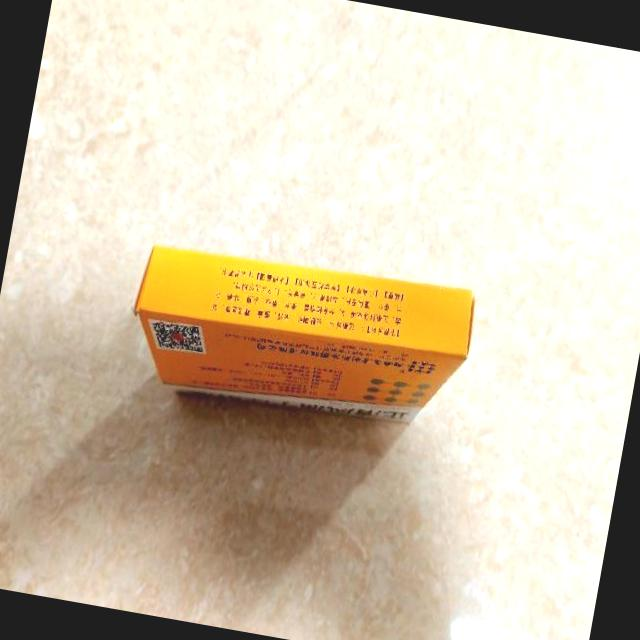box: (121, 234, 481, 441)
